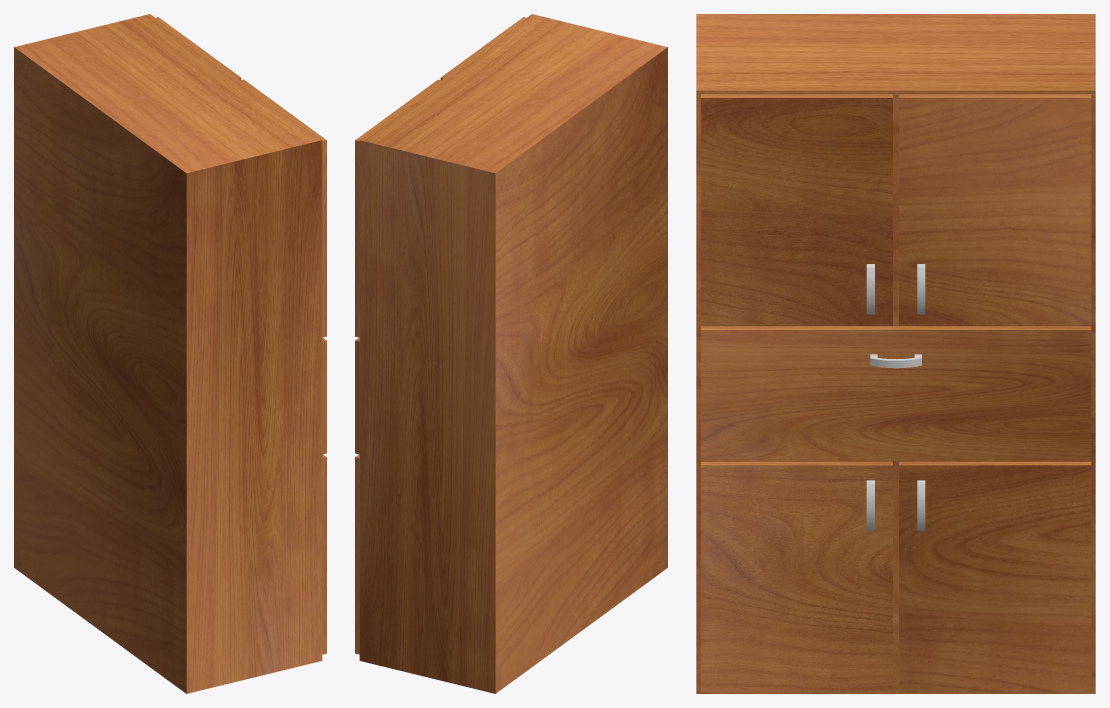
Rendered from szafka1.fbx.
3 renders of one model, left to right at view 1: azimuth 30°, elevation 25°; view 2: azimuth 150°, elevation 25°; view 3: azimuth 270°, elevation 25°, orthographic. The views are drawn at different scales.
Visible parts, largest first — view 1: Cube.010; view 2: Cube.010; view 3: Cube.010.
Boxes of the visible parts, <box> form: Cube.010: <box>14,14,326,693</box>; Cube.010: <box>355,14,667,693</box>; Cube.010: <box>696,14,1095,693</box>.
Bounding box in the file's own units: 77.2 × 250 × 150.
Materials: 2 (1 with a texture image).
